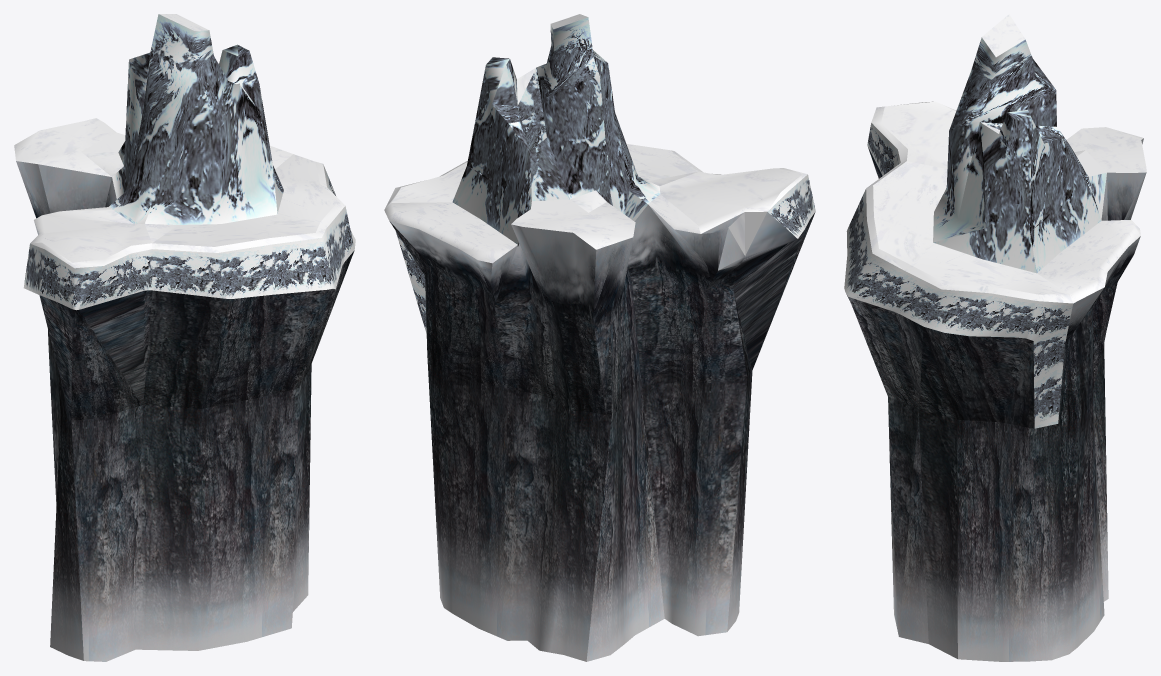
Rendered from san005.obj.
The picture shows the model from 3 angles, left to right: view 1: azimuth 30°, elevation 25°; view 2: azimuth 150°, elevation 25°; view 3: azimuth 270°, elevation 25°; orthographic projection.
Visible parts, largest first — view 1: san005; view 2: san005; view 3: san005.
Boxes of the visible parts, left/top/right/bottom form: san005: left=14, top=14, right=355, bottom=661; san005: left=384, top=14, right=815, bottom=661; san005: left=844, top=14, right=1146, bottom=661.
Bounding box in the file's own units: 658 × 1058 × 495.
